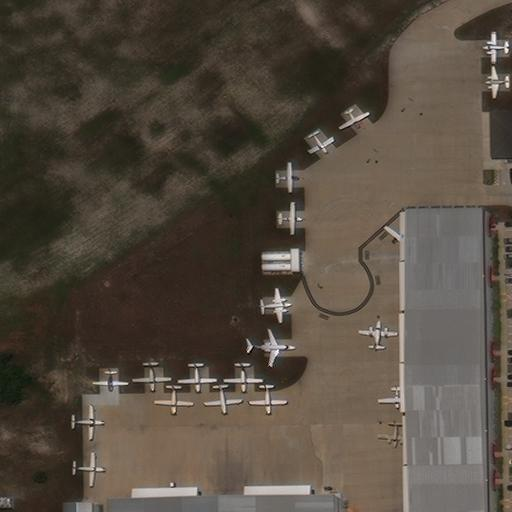Small Civil Transport: (246, 327, 297, 366), (356, 319, 398, 350), (70, 404, 106, 440), (132, 359, 171, 392), (153, 383, 194, 414), (223, 361, 264, 392), (70, 453, 106, 488), (248, 383, 287, 415), (177, 362, 217, 393), (203, 384, 243, 415), (259, 287, 292, 322), (377, 420, 414, 448), (482, 30, 510, 64), (276, 201, 302, 235), (377, 385, 415, 408), (383, 222, 414, 250), (91, 368, 128, 391), (485, 66, 510, 99), (274, 161, 299, 193), (340, 109, 369, 130), (310, 132, 334, 154)
